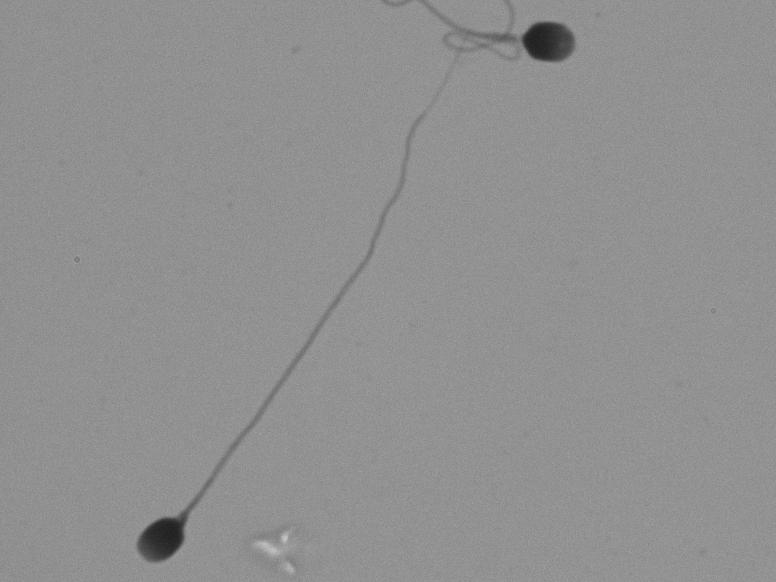Normal: (77, 76, 507, 570), (413, 3, 617, 91)
